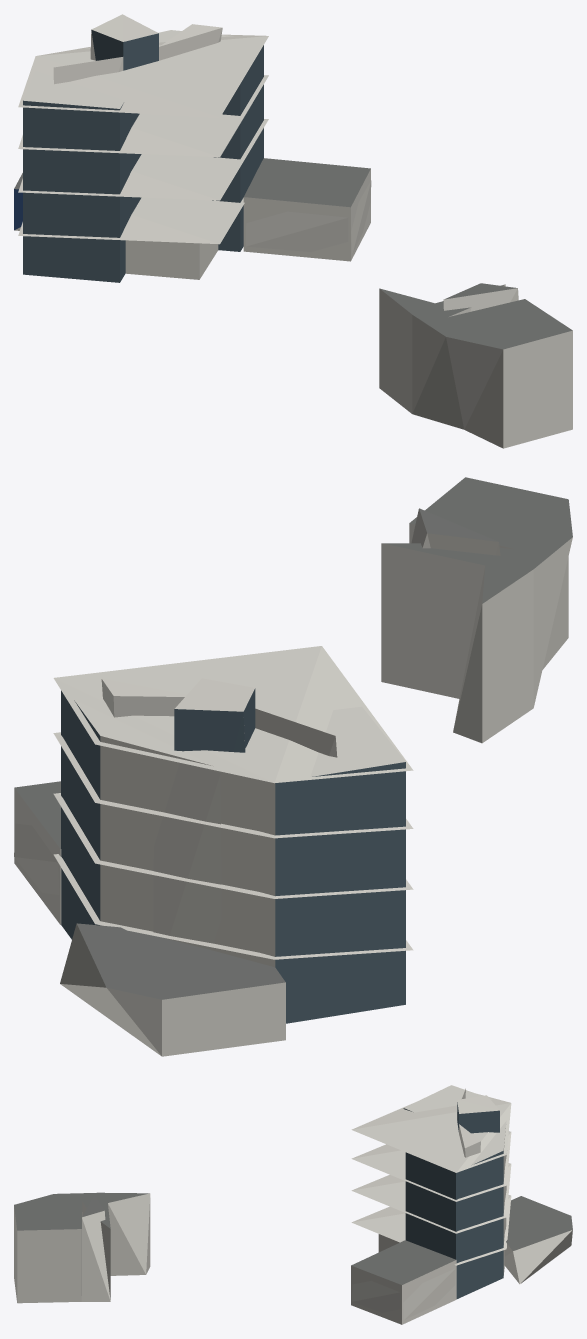
File: eerste-openluchtschool.lod2.glb
3 renders of one model, top to bottom at view 1: azimuth 30°, elevation 25°; view 2: azimuth 150°, elevation 25°; view 3: azimuth 270°, elevation 25°, orthographic. The views are drawn at different scales.
Parts seen in each view (by area): view 1: lod2; view 2: lod2; view 3: lod2.
Part boxes in pixels (<box>): lod2: <box>14,14,572,448</box>; lod2: <box>14,477,572,1056</box>; lod2: <box>14,1085,572,1324</box>.
Size of the model in its own units: 29.6 by 18.15 by 61.2.
